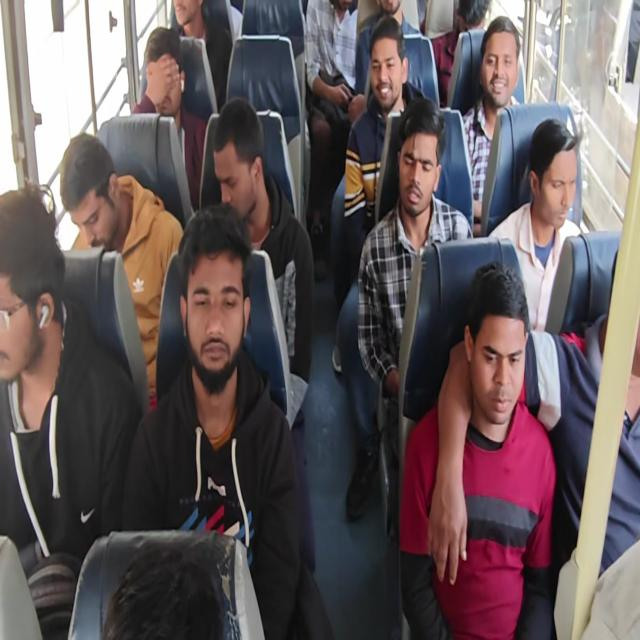person: (1, 1, 638, 638), (120, 202, 330, 638), (438, 259, 640, 582), (0, 182, 140, 638), (399, 260, 557, 638), (351, 96, 474, 525), (211, 96, 317, 574), (59, 131, 184, 411), (330, 15, 426, 373), (488, 117, 585, 336), (304, 0, 362, 244), (132, 26, 206, 209), (101, 541, 239, 639), (461, 16, 522, 232), (354, 0, 422, 98), (172, 0, 232, 110), (430, 0, 491, 106)
